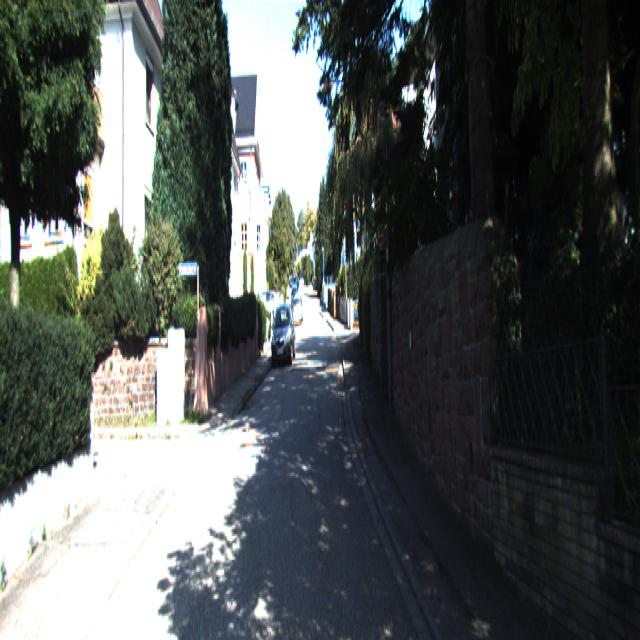Car: (270, 306, 297, 368)
